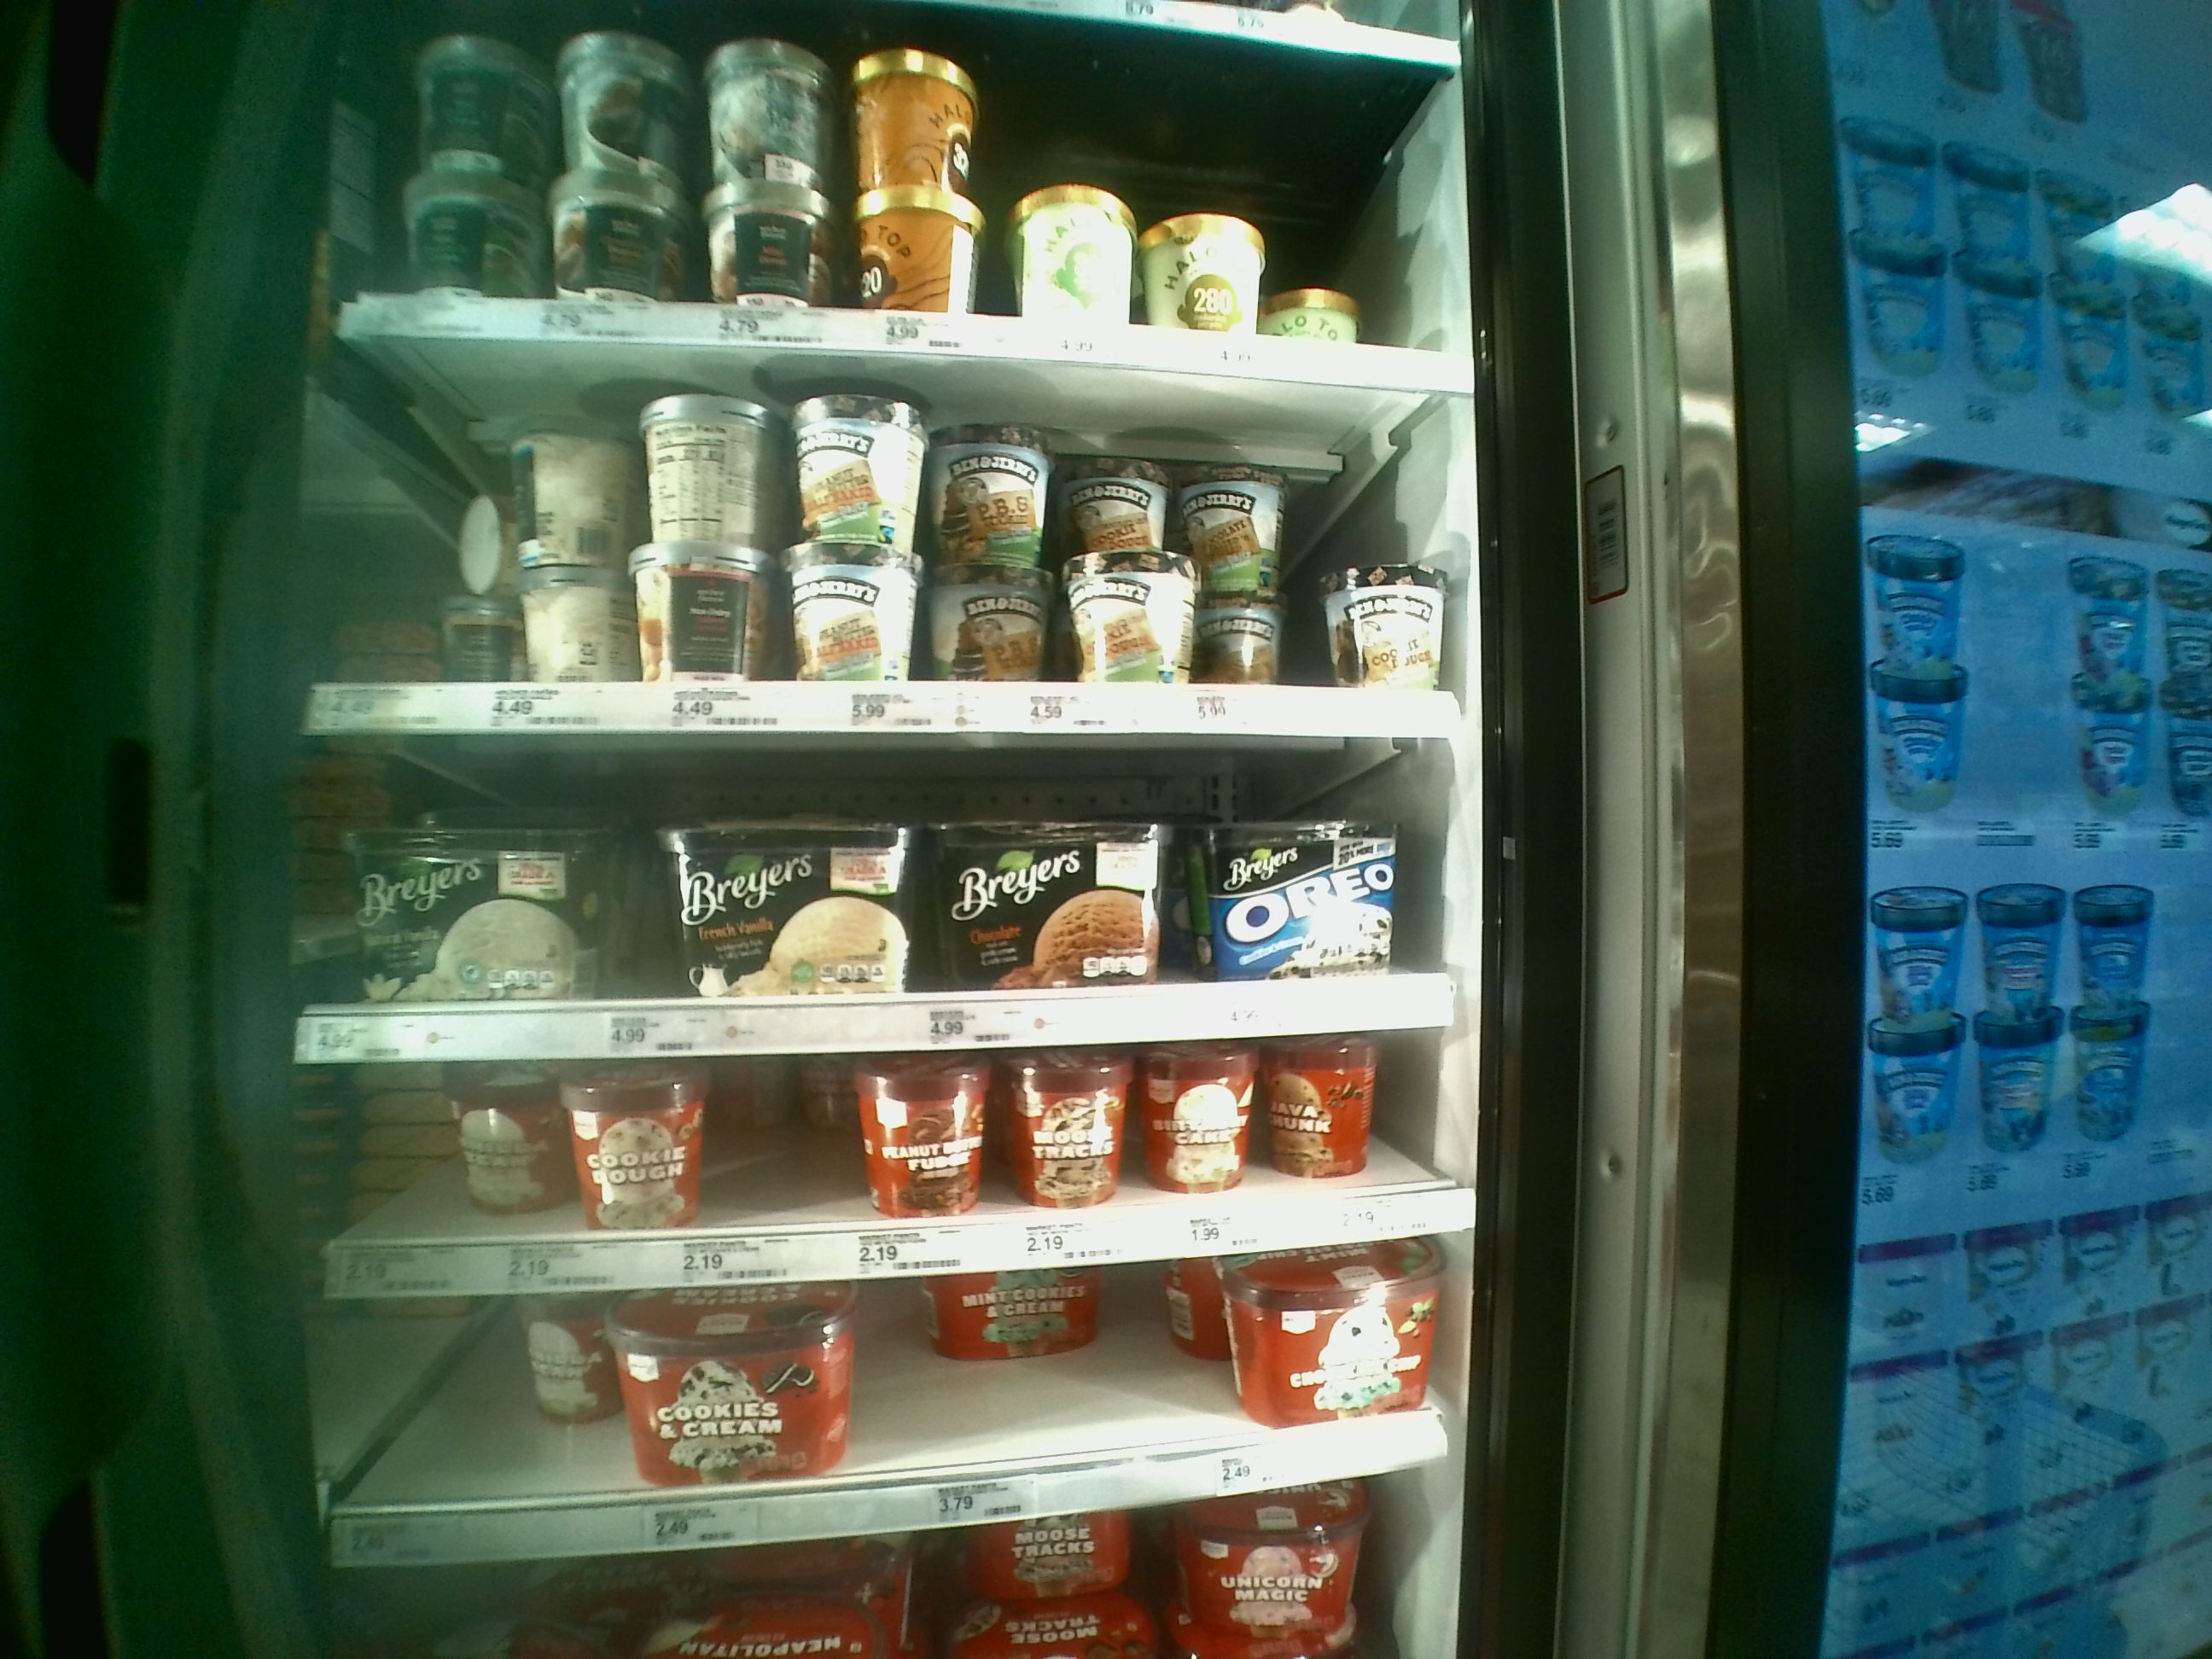shelf: (319, 357, 1475, 728), (307, 728, 1460, 1047), (327, 1241, 1463, 1532), (305, 1065, 1468, 1276)
